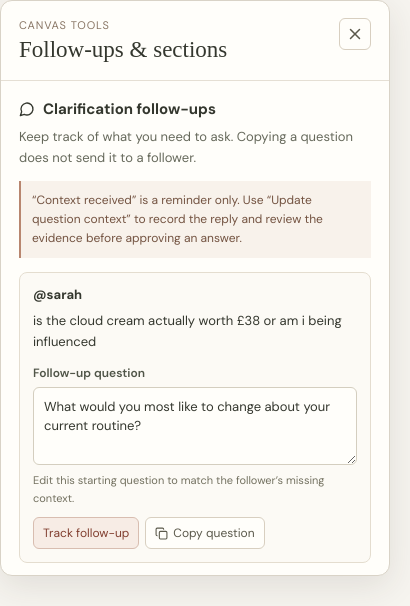
it: Canvas workflow panel › reports copy success only after the clipboard promise succeeds and reports failures honestly
Replace the text in the text box labelled "Follow-up question" with "What finish do you prefer?" at (195, 426), box [33, 387, 357, 465]
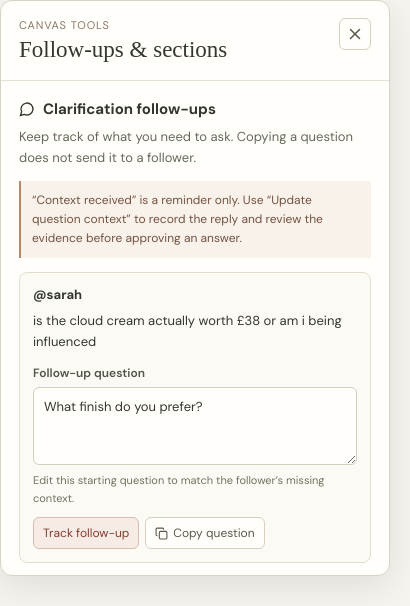
Click the button "Copy question" at (205, 533), box [145, 517, 265, 549]
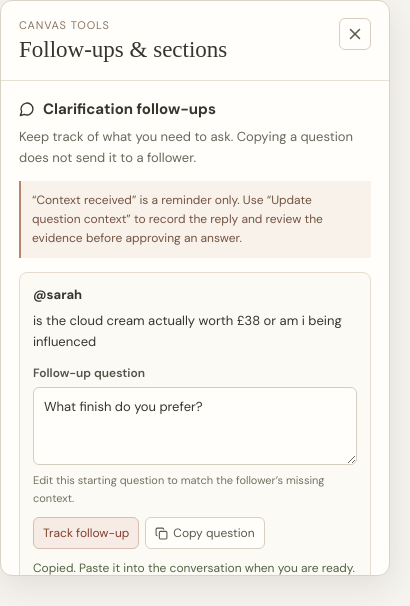
expect the message shows "Copied.": met, box [33, 560, 355, 575]
Click the button "Copy question" at (205, 533), box [145, 517, 265, 549]
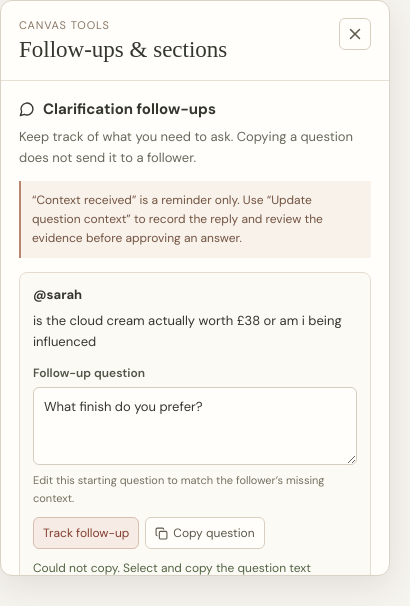
expect the text "Copied." is gone: met
